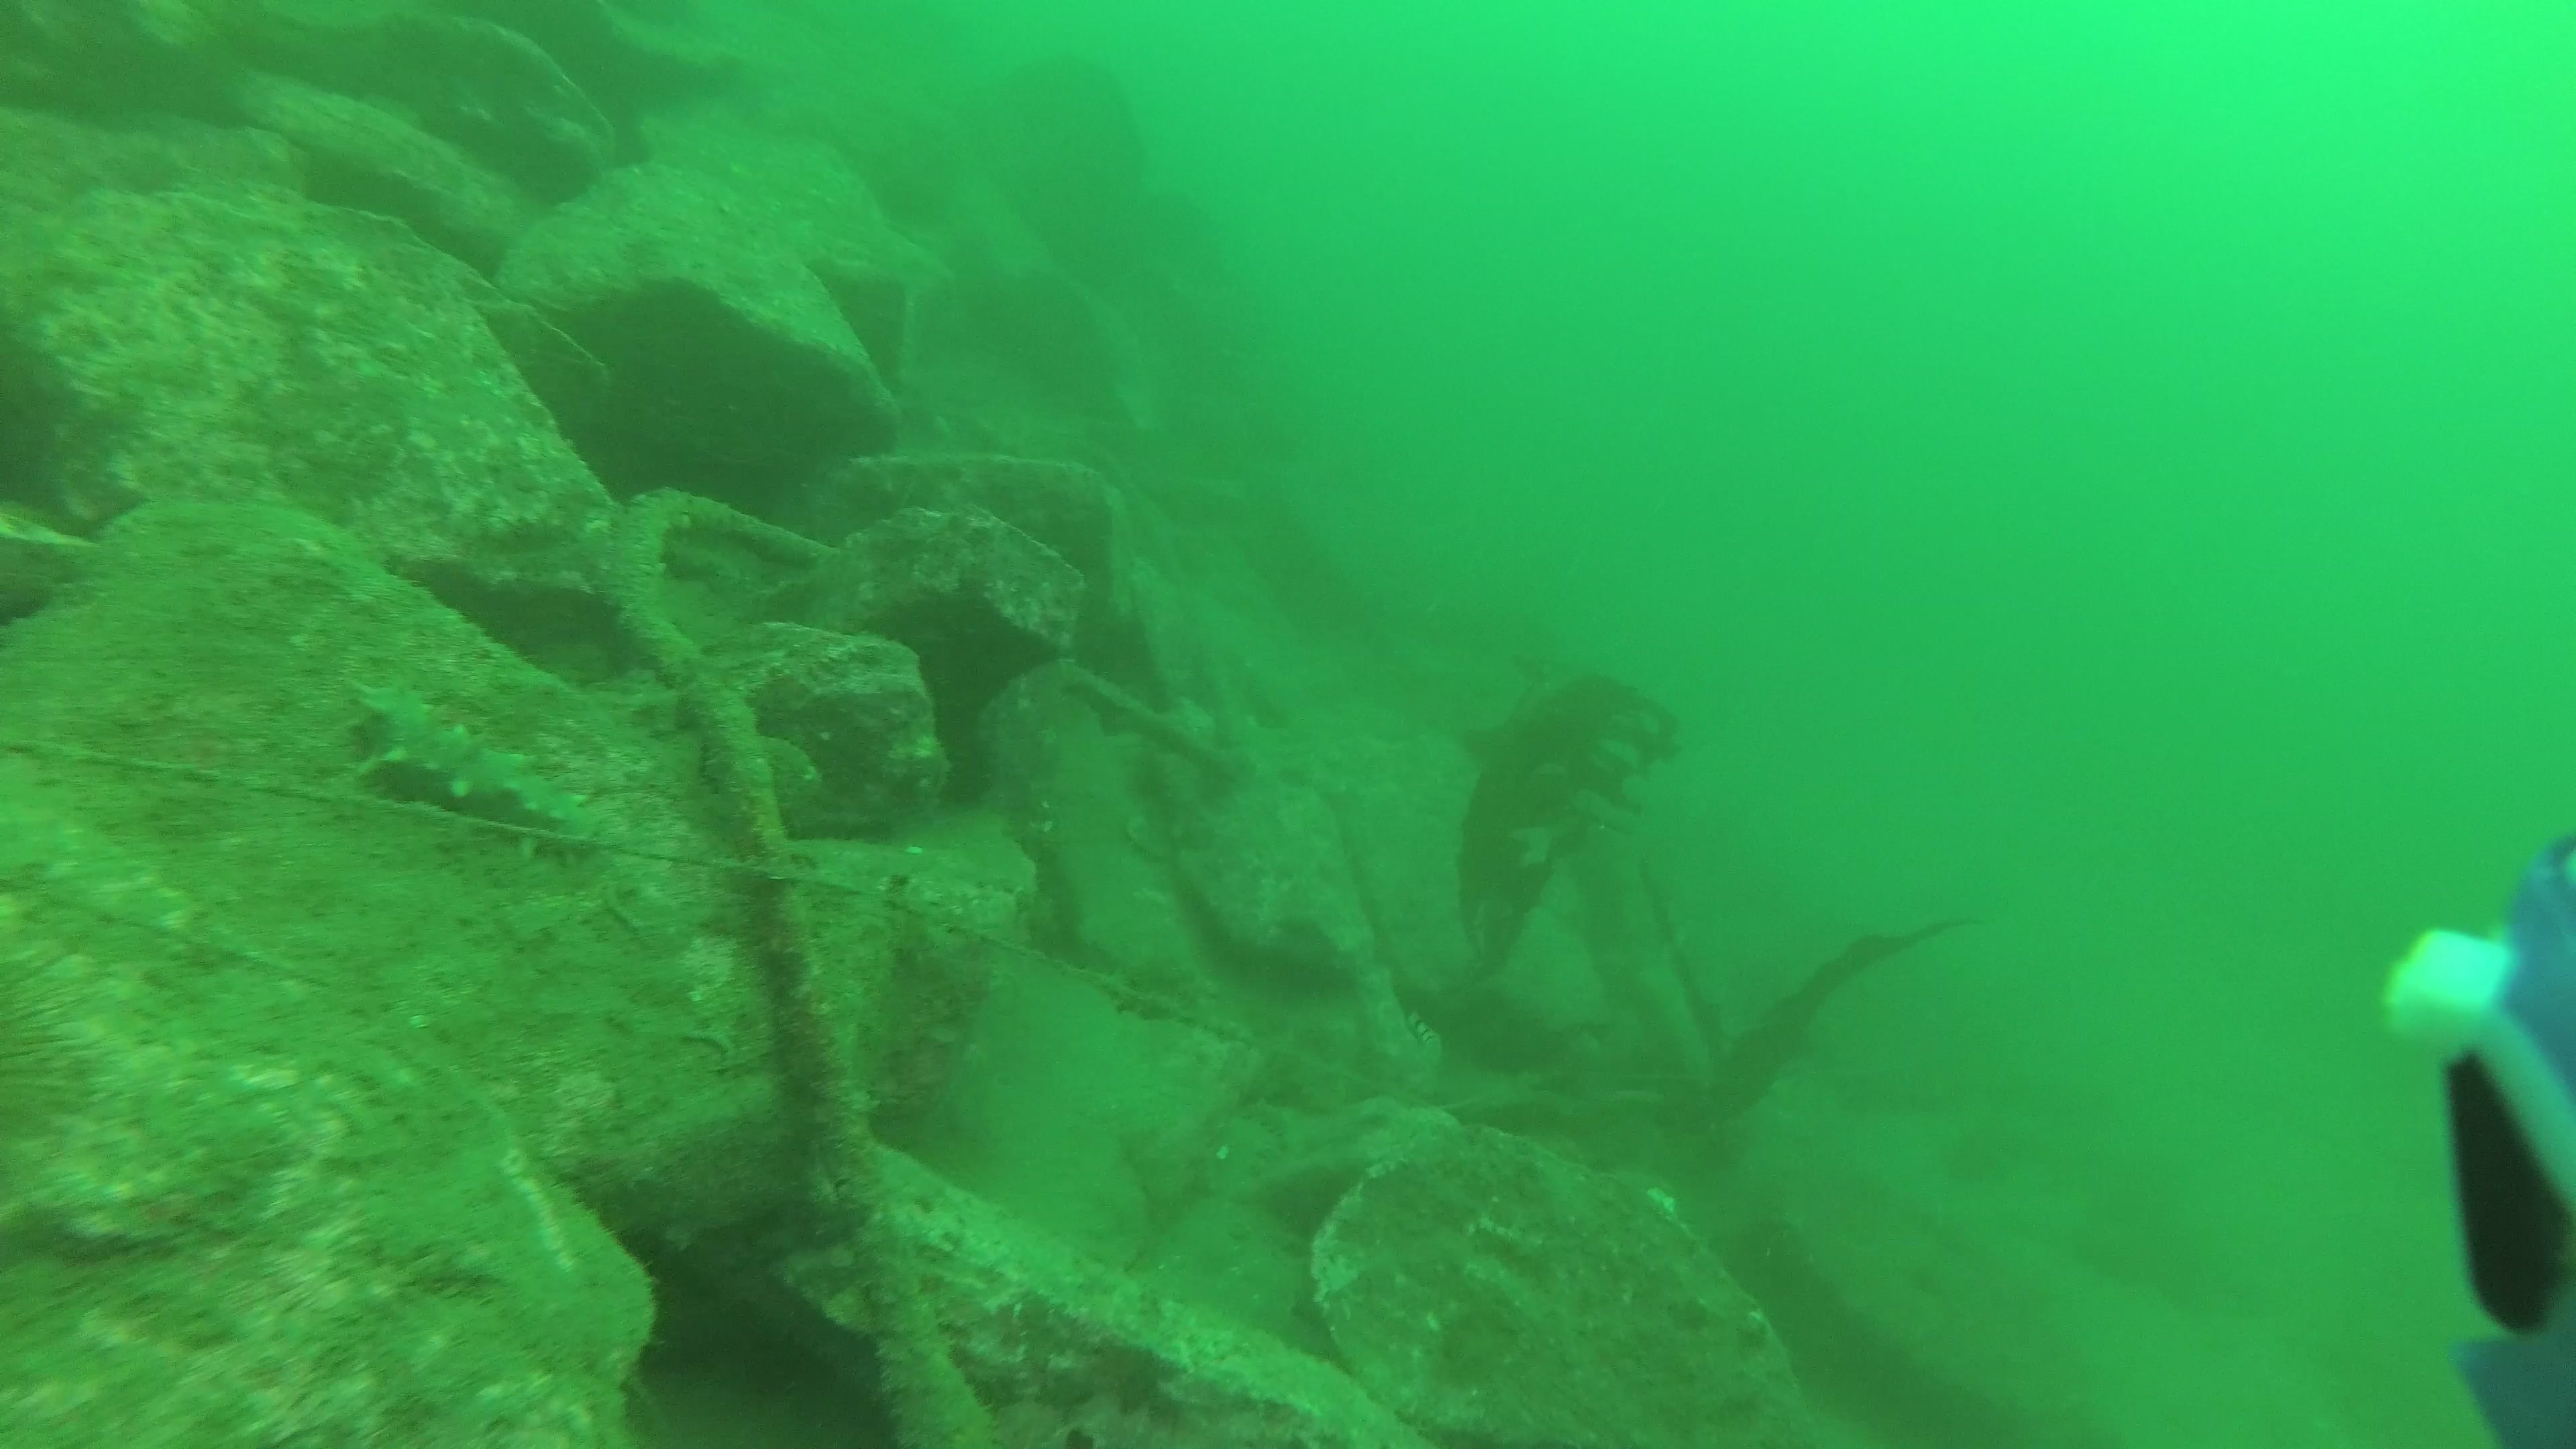holothurian: (331, 671, 609, 876)
